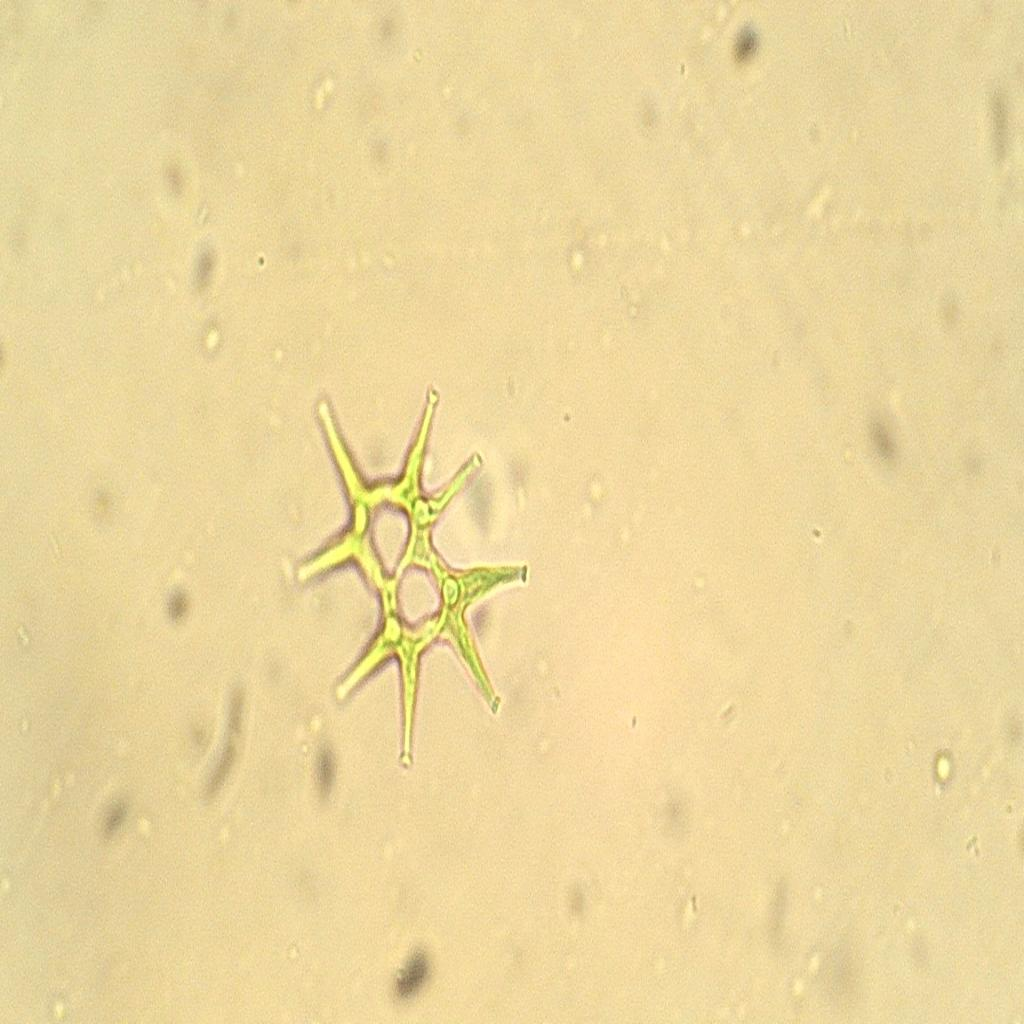Pediastrum_CF: (284, 368, 537, 781)
